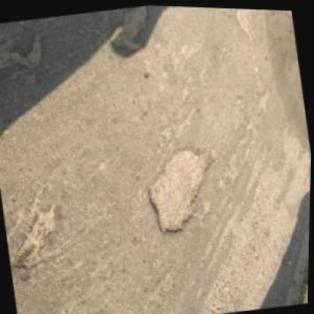Hueco: (138, 136, 230, 240), (2, 197, 66, 276)
